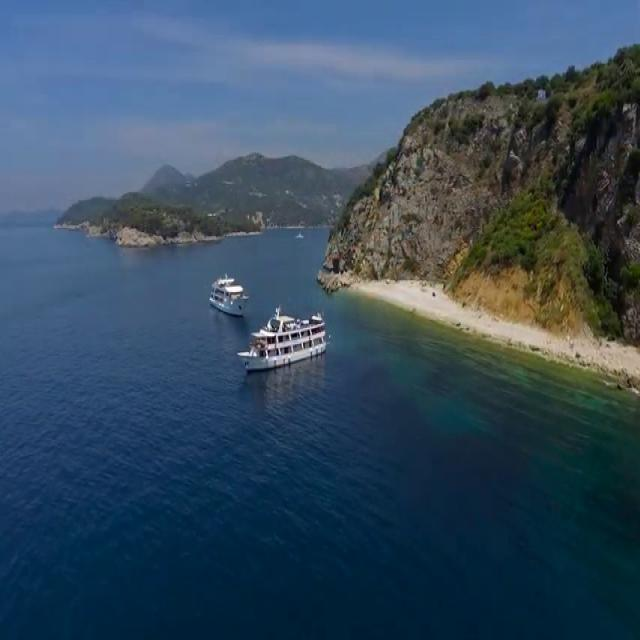passenger ship: (234, 306, 325, 368), (208, 277, 246, 316)
